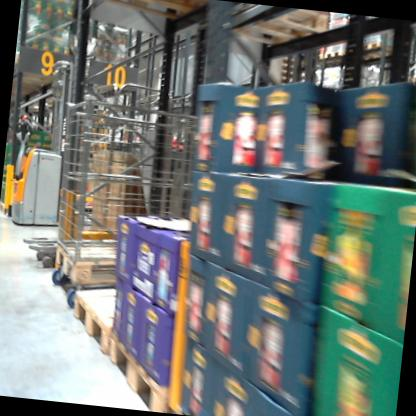pallet: (66, 267, 197, 371), (191, 1, 331, 57), (102, 325, 179, 413), (73, 0, 223, 32), (50, 239, 139, 292), (358, 37, 396, 64), (321, 46, 347, 65), (409, 73, 416, 87)
pallet_truck: (2, 47, 98, 230)
